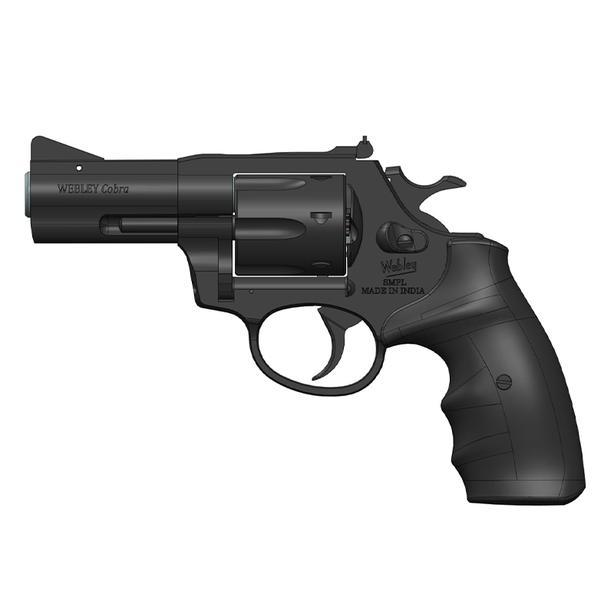Firearm: (15, 114, 597, 530)
